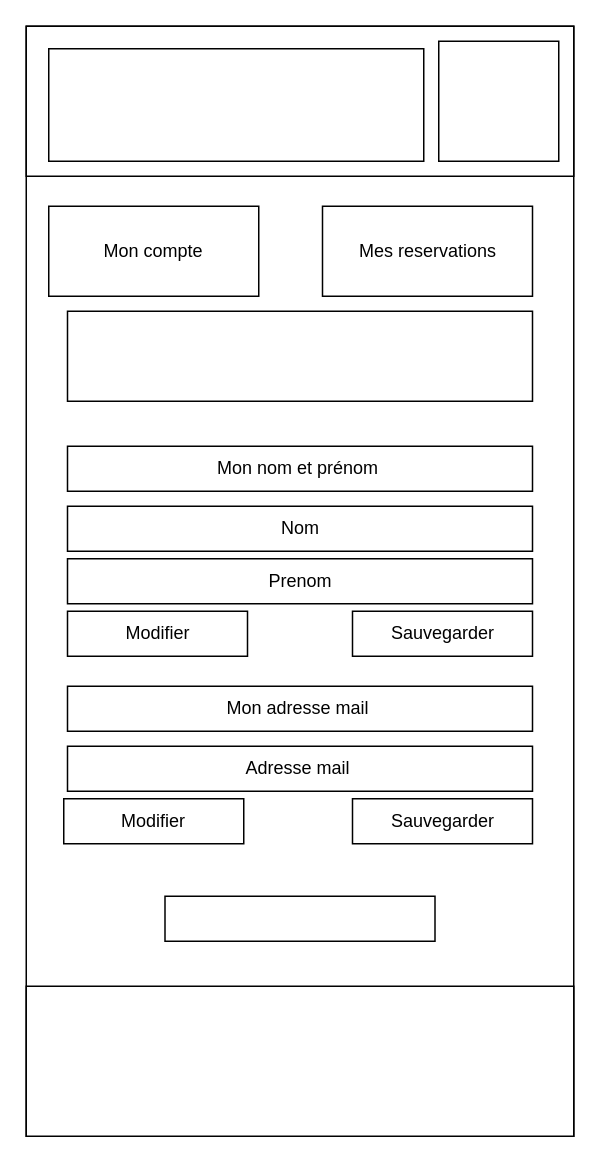
The diagram is 600 pixels wide and 1163 high, and some of its shapes have lost their labels. Each missing label, with the box of its shape:
Informations légales / Contact / Reseaux sociaux / Lien utile: (25, 985, 574, 1136)
Informations personnelles: (66, 310, 532, 401)
LOGO: (47, 47, 424, 161)
menu burger: (437, 40, 559, 161)
Supprimer le compte: (164, 895, 435, 941)
